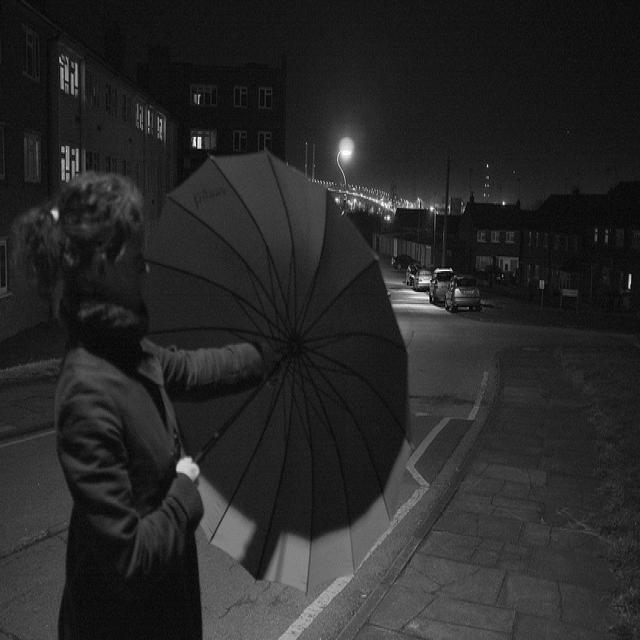Vehicle: (444, 274, 480, 312), (428, 267, 454, 304), (391, 254, 420, 272), (413, 269, 432, 291), (405, 264, 418, 286)
